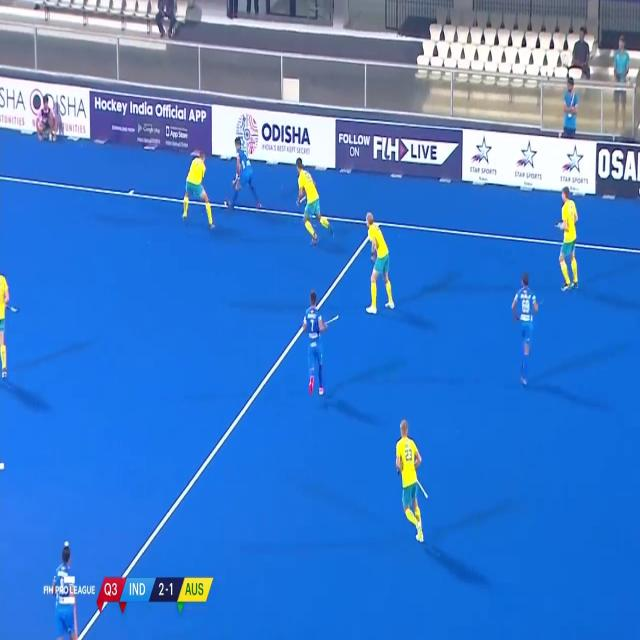ball: (223, 197, 228, 207)
